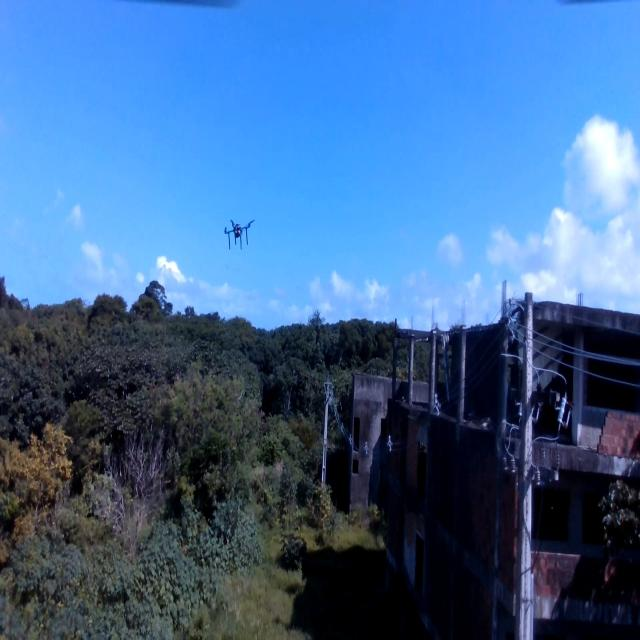-uav-: (218, 206, 258, 258)
